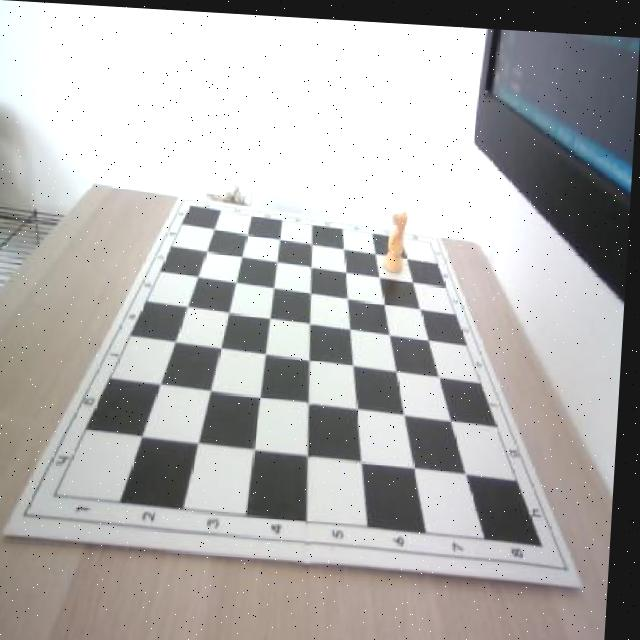white-king: (385, 206, 413, 272)
